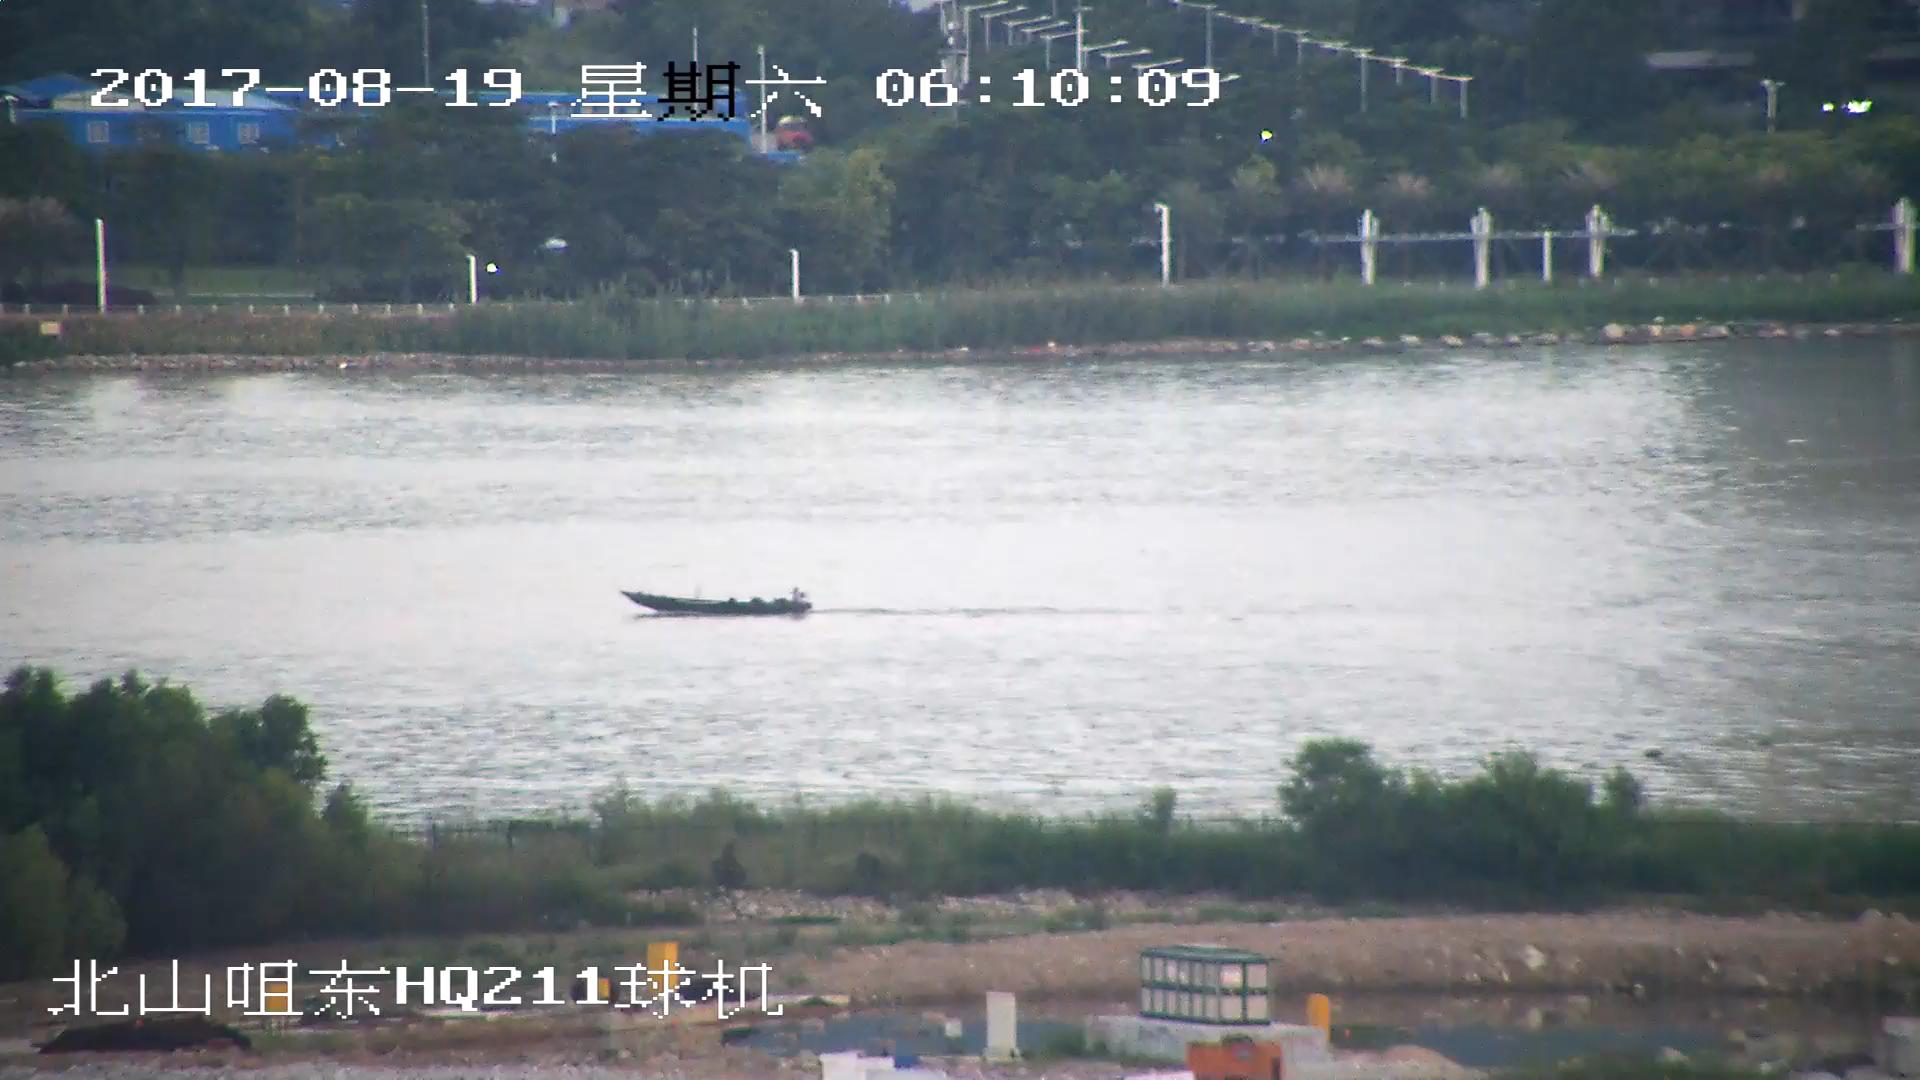fishing boat: (619, 577, 814, 620)
